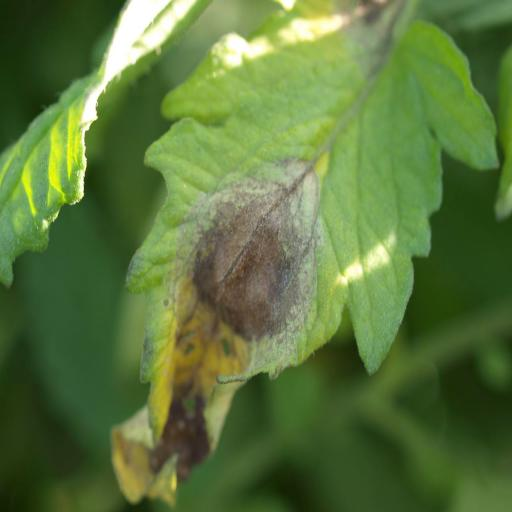Late Blight: (110, 20, 504, 508)
